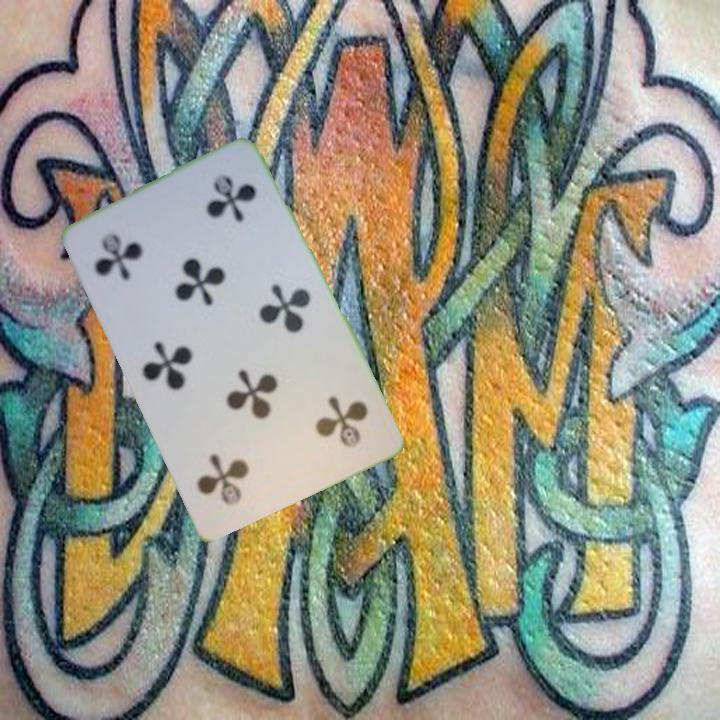c_8.png: (260, 365, 385, 484), (76, 191, 201, 309)
